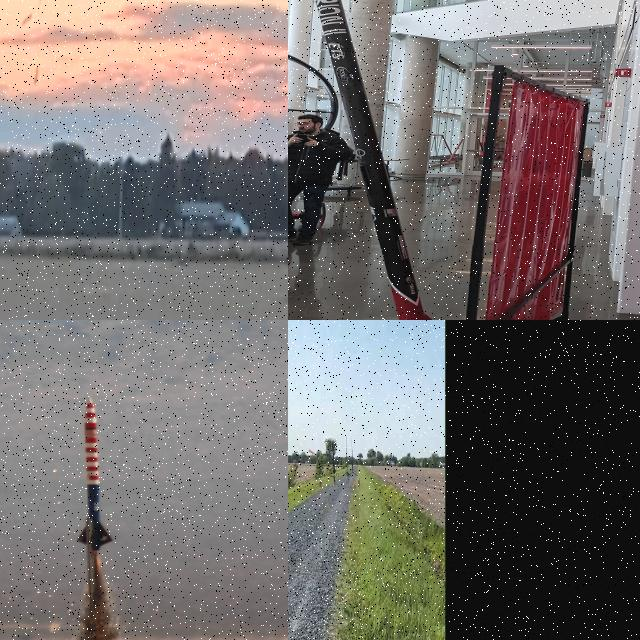Rocket: (315, 0, 433, 320), (76, 394, 114, 550), (332, 447, 336, 476), (34, 67, 39, 84)
